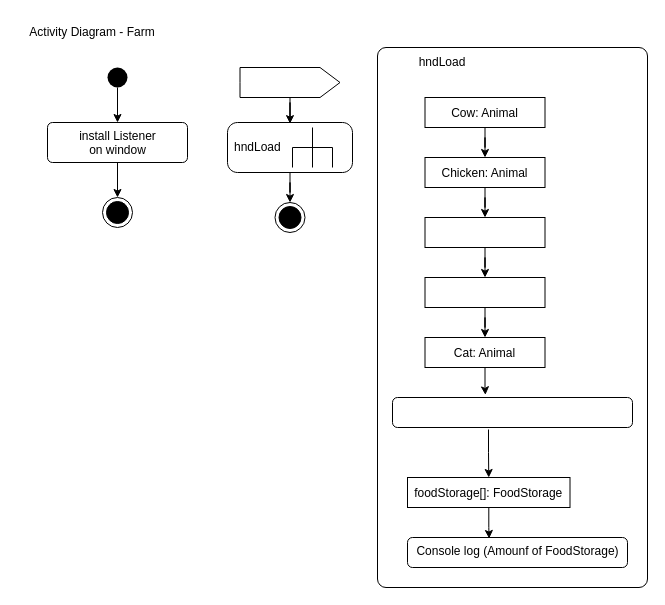
Some shapes in this 665 by 605 pixel diagram are drawn without their labels. Each missing label, with the centre of its shape:
Dog: Animal: point 484,292
interface FoodStorage [key:string]: number: point 512,412
load: point 289,82
Pig: Animal: point 484,232
